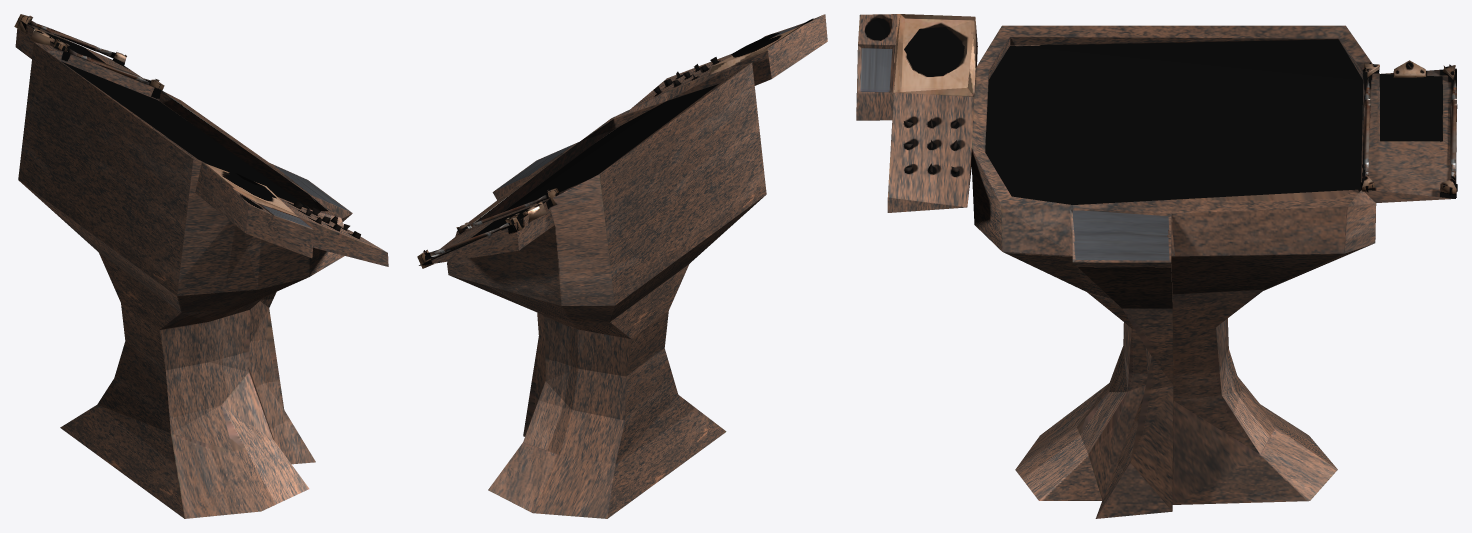
The model's file is Terminal1.fbx.
3 views of the same model, side by side, from view 1: azimuth 30°, elevation 25°; view 2: azimuth 150°, elevation 25°; view 3: azimuth 270°, elevation 25° (orthographic). The views are drawn at different scales.
Parts seen in each view (by area): view 1: Cube; view 2: Cube; view 3: Cube.
Part boxes in pixels (bbox=[...]): Cube: bbox=[14, 14, 388, 518]; Cube: bbox=[417, 14, 827, 518]; Cube: bbox=[856, 14, 1457, 518].
Size of the model in its own units: 184 by 323 by 427.
